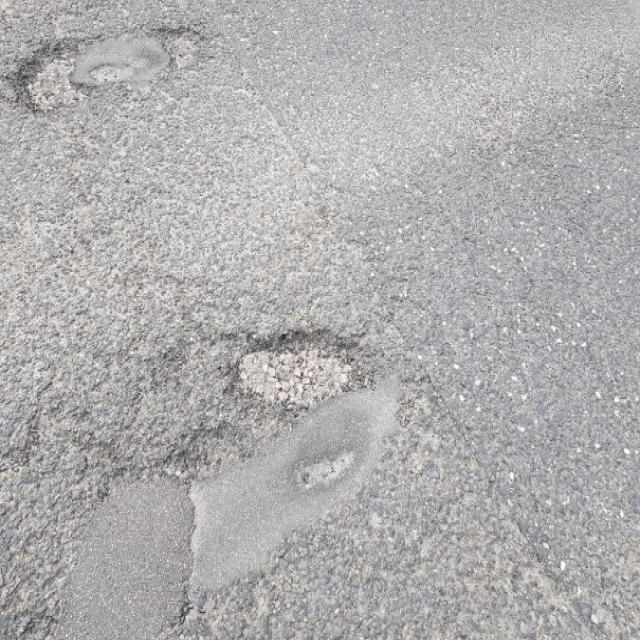pothole: (12, 17, 212, 116), (223, 314, 381, 418)
